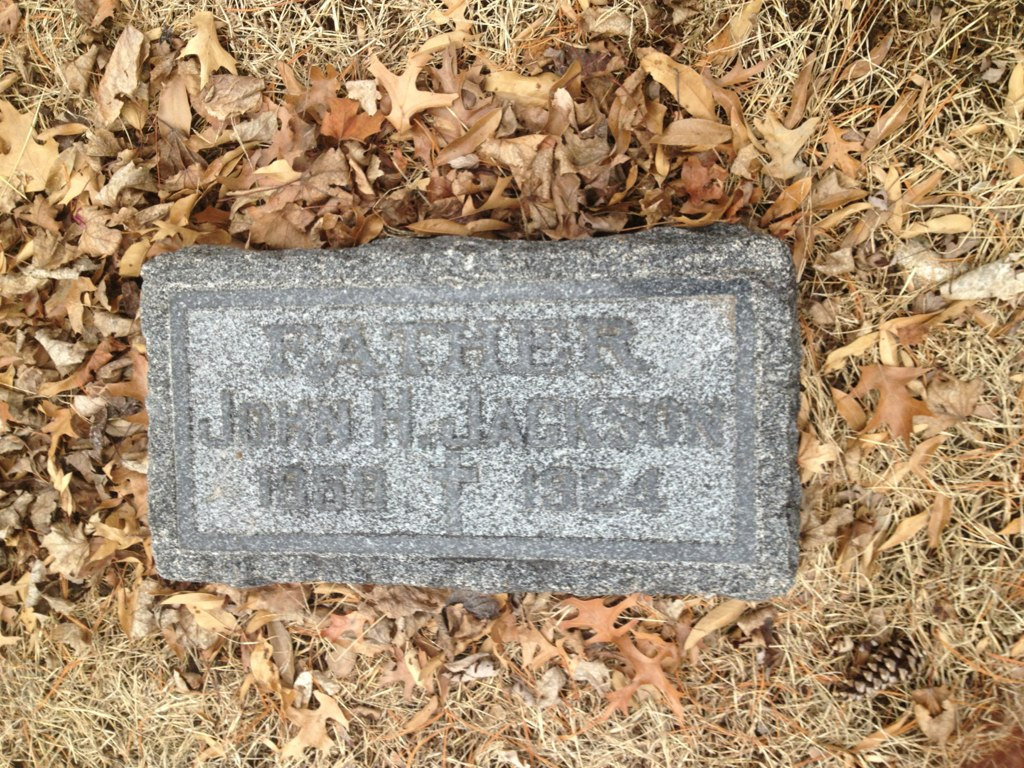flat: (143, 231, 799, 597)
